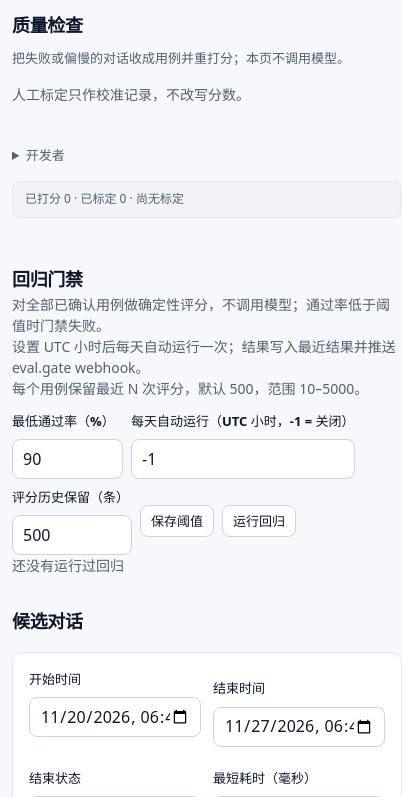
it: EvalSettings › runs the regression gate and lists failures
The width and height of the screenshot is (402, 797).
Step 1. Click the button with test id "eval-gate-run" → click(259, 521), box [222,505,296,537]
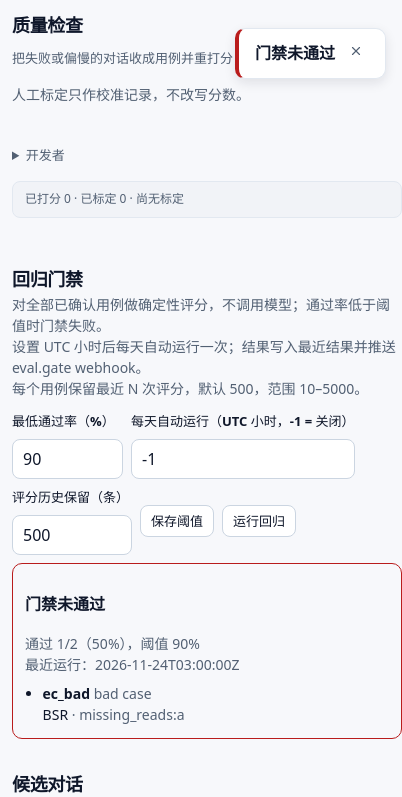
expect the element with test id "eval-gate-result" shows "门禁未通过": met, box [25,593,105,615]
expect the element with test id "eval-gate-result" shows "通过 1/2（50%），阈值 90%": met, box [25,634,200,653]
expect the element with test id "eval-gate-result" shows "ec_bad": met, box [43,684,90,703]
